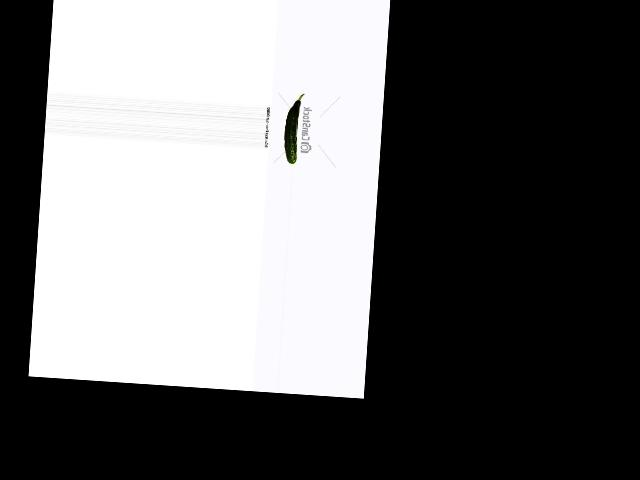cucumber: (282, 92, 303, 163)
